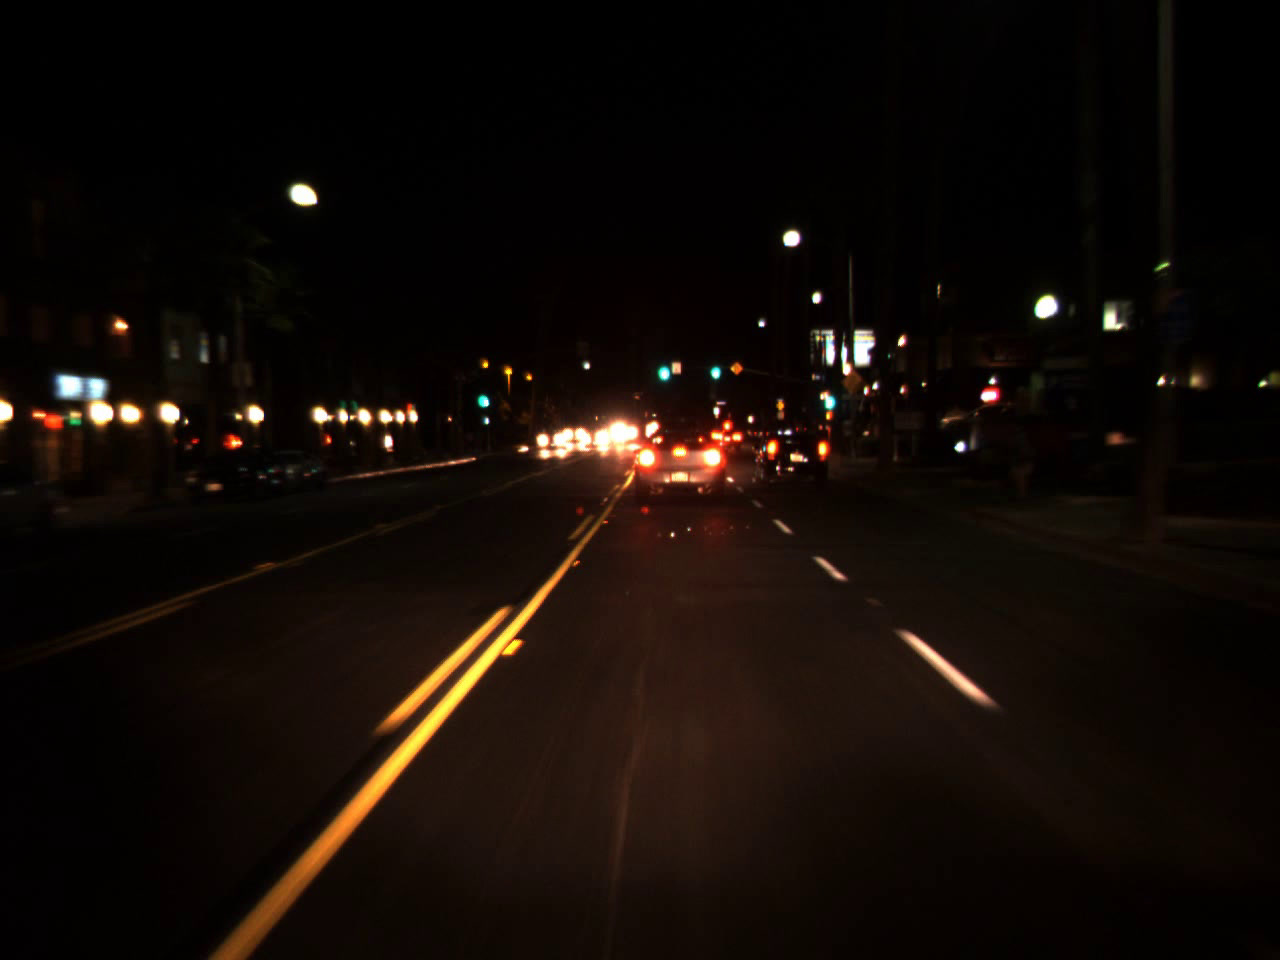go: (655, 350, 671, 386), (819, 380, 837, 413), (475, 379, 487, 412), (708, 357, 722, 378)
